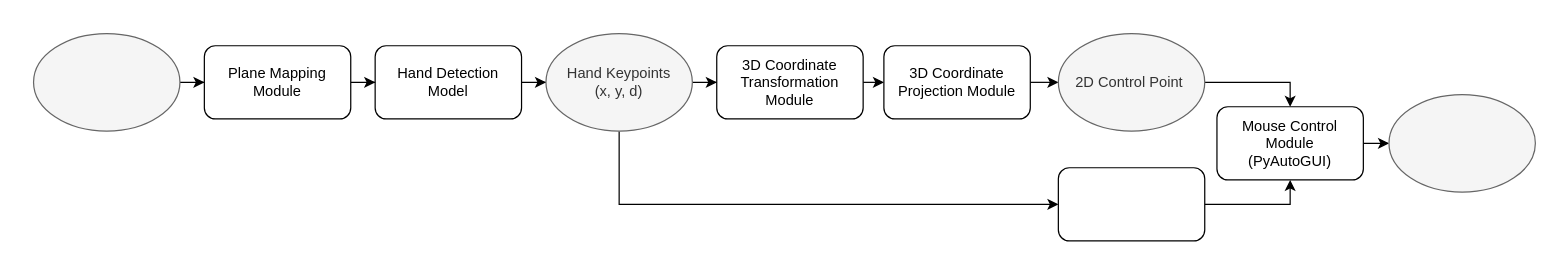
Image size: 1566x273. Some labels were removed from this diagram. The centre of each missing label's shape, as x and y in pixels:
"Hand Gesture Recognition Model" belongs at [1131,204].
"Interactive Result" belongs at [1461,142].
"TOF Camera Input (RGB,Depth)" belongs at [106,81].
